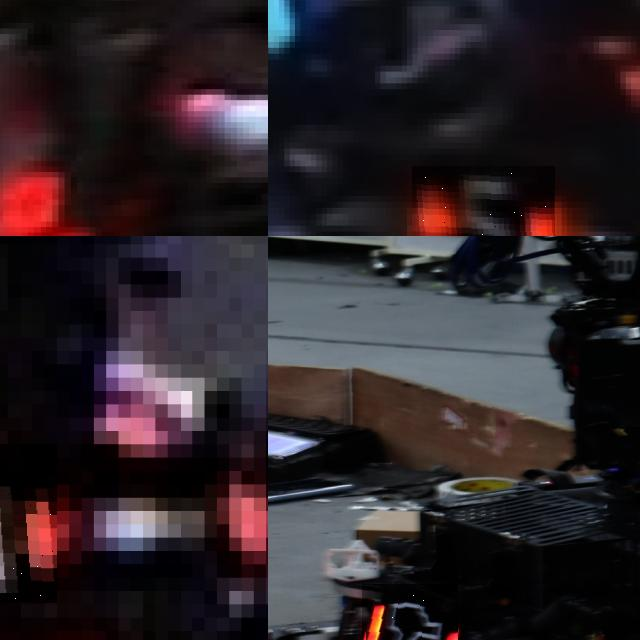R3: (0, 444, 57, 604)
R5: (412, 166, 556, 236)
Rs: (362, 583, 457, 640)
